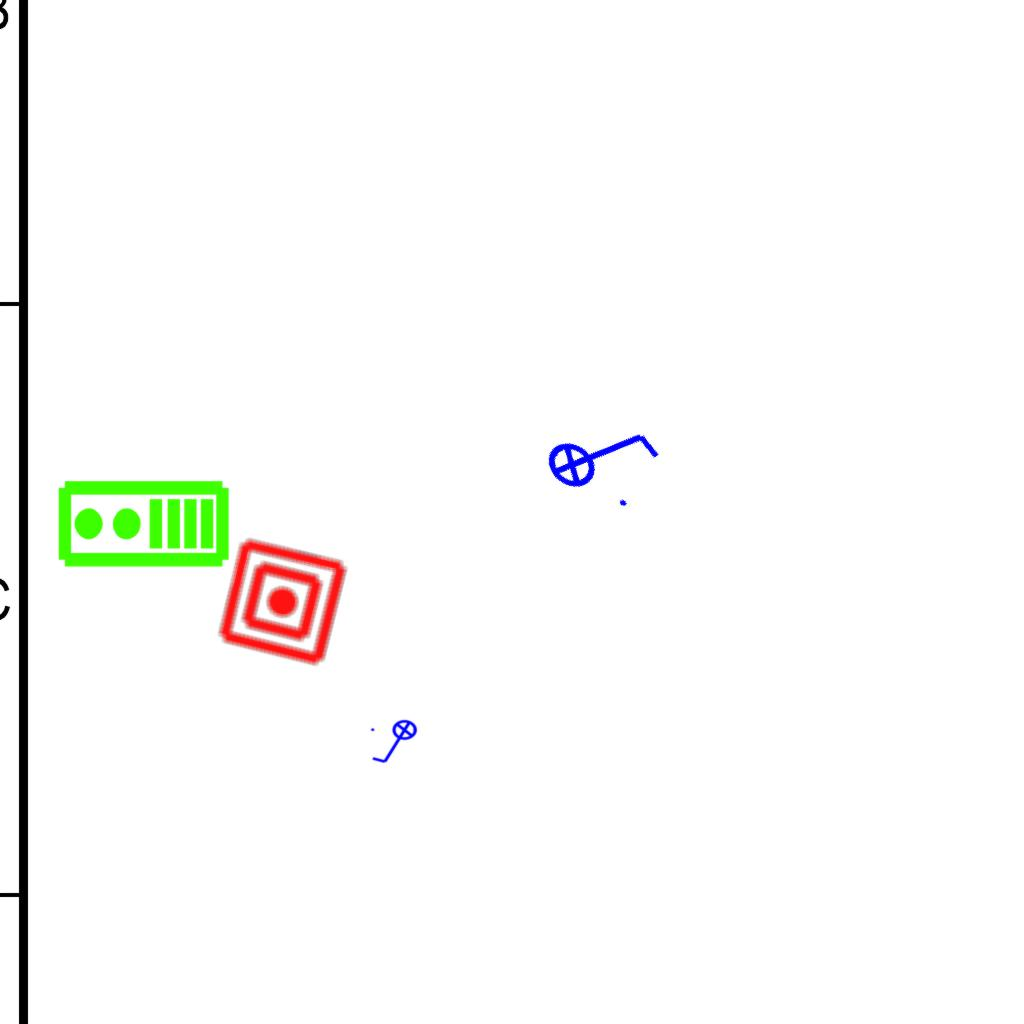Ausschalter_beleuchtet: (527, 382, 675, 526), (368, 719, 424, 767)
Gegensprechanlage_mit_Video: (55, 478, 231, 573)
NAM-Nichtautomatischer_Melder: (214, 533, 351, 670)
